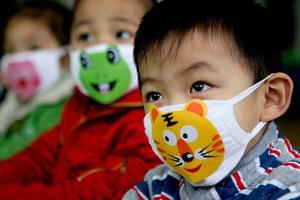OK: (138, 56, 265, 183), (72, 16, 158, 102), (1, 29, 62, 100)
